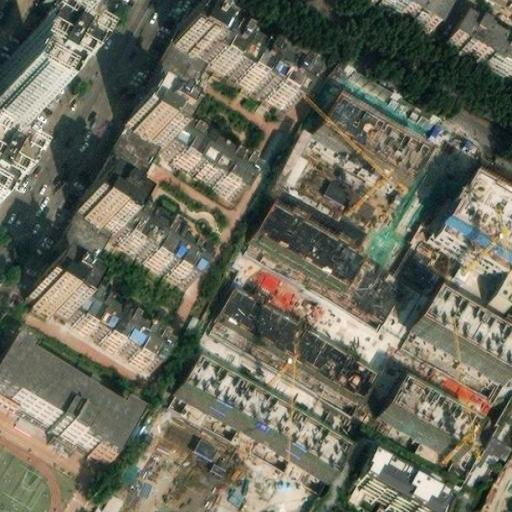building: (182, 356, 349, 473), (213, 289, 375, 403), (0, 334, 140, 458), (249, 212, 386, 312), (315, 93, 426, 180), (414, 289, 512, 377), (435, 158, 512, 259), (65, 289, 165, 365), (207, 35, 302, 109), (119, 203, 214, 276), (163, 116, 255, 188), (386, 378, 471, 446), (357, 452, 447, 512), (446, 10, 512, 73), (104, 119, 164, 180), (53, 204, 113, 264), (151, 36, 208, 95), (75, 177, 136, 230), (173, 8, 225, 58), (26, 270, 79, 316), (127, 94, 178, 141), (489, 257, 512, 308)
